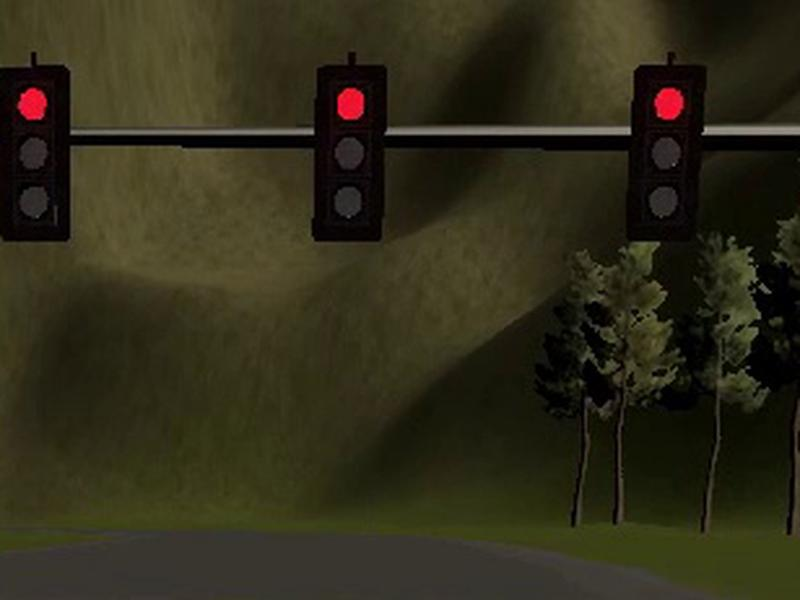Red: (625, 64, 706, 242), (312, 64, 386, 242), (1, 63, 70, 243)
